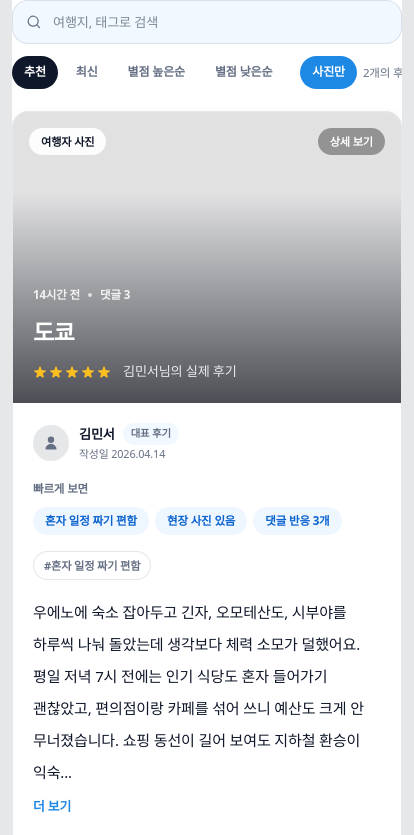
Test: CommunityExperience › expands long review copy on demand
Expected: the heading "도쿄" is shown, top-left (33, 316), bottom-right (74, 348)
Click the button "더 보기". click: (52, 806)
box: top-left (33, 796), bottom-right (71, 817)
(page scrolled)
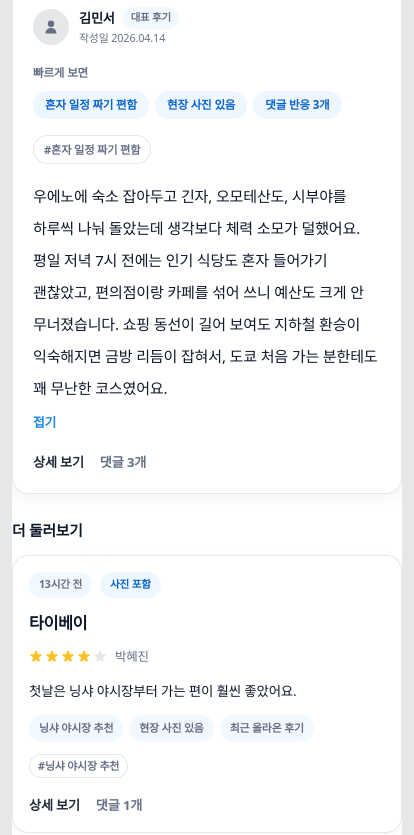
Expected: the text "우에노에 숙소 잡아두고 긴자, 오모테산도, 시부야를 하루씩 나눠 돌았는데 생각보다 체력 소모가 덜했어요. 평일 저녁 7시 전에는 인기 식당도 혼자 들어가기 괜찮았고, 편의점이랑 카페를 섞어 쓰니 예산도 크게 안 무너" is shown, top-left (33, 186), bottom-right (378, 398)
Expected: the button "접기" is shown, top-left (33, 412), bottom-right (56, 433)
